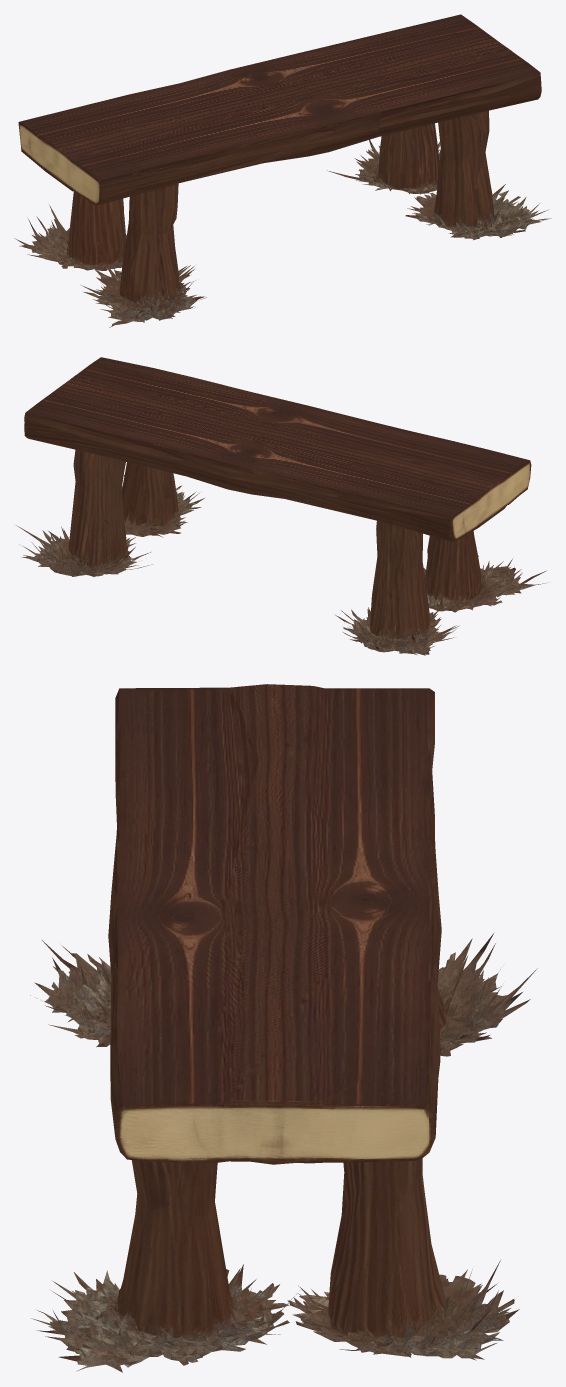
The model's file is log_bench_beam.glb.
3 renders of one model, top to bottom at view 1: azimuth 30°, elevation 25°; view 2: azimuth 150°, elevation 25°; view 3: azimuth 270°, elevation 25°, orthographic. The views are drawn at different scales.
Size of the model in its own units: 1.87 by 0.5574 by 0.9172.
Materials: 1 (1 with a texture image).
